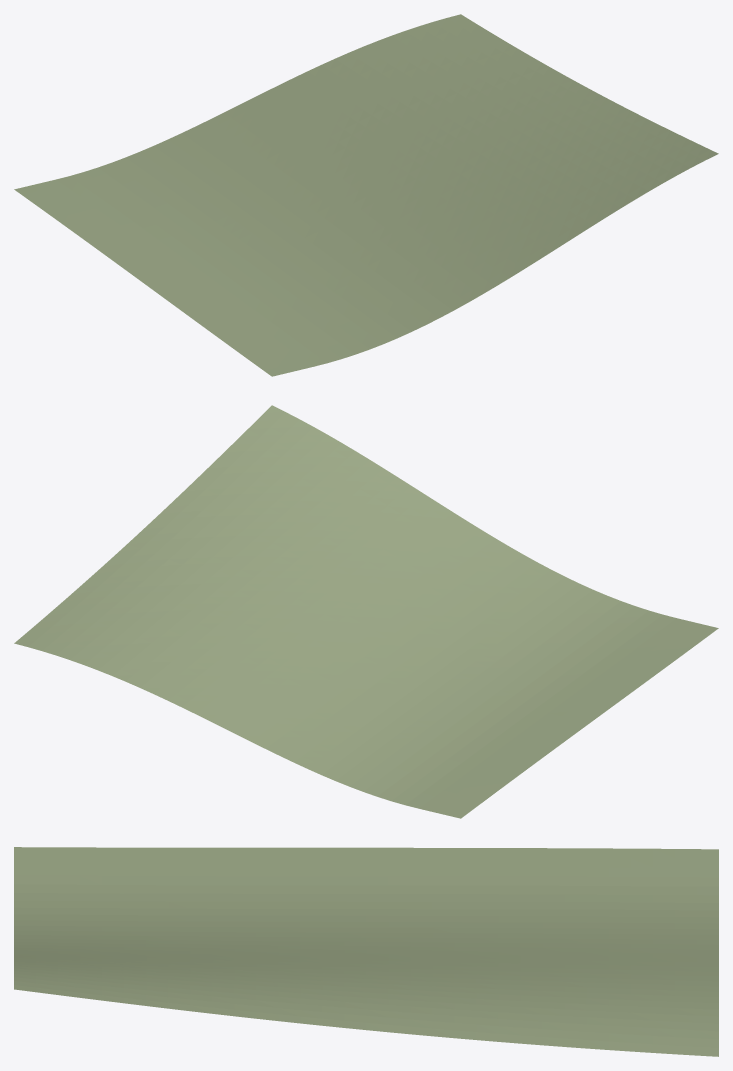
File: expanse-21-26.glb
3 renders of one model, top to bottom at view 1: azimuth 30°, elevation 25°; view 2: azimuth 150°, elevation 25°; view 3: azimuth 270°, elevation 25°, orthographic. The views are drawn at different scales.
Visible parts, largest first — view 1: expanse-21-26; view 2: expanse-21-26; view 3: expanse-21-26.
Boxes of the visible parts, x1,y1,x2,y2 form: expanse-21-26: (14,14,718,376); expanse-21-26: (14,405,718,818); expanse-21-26: (14,847,718,1056).
Bounding box in the file's own units: 256 × 63.38 × 256.
